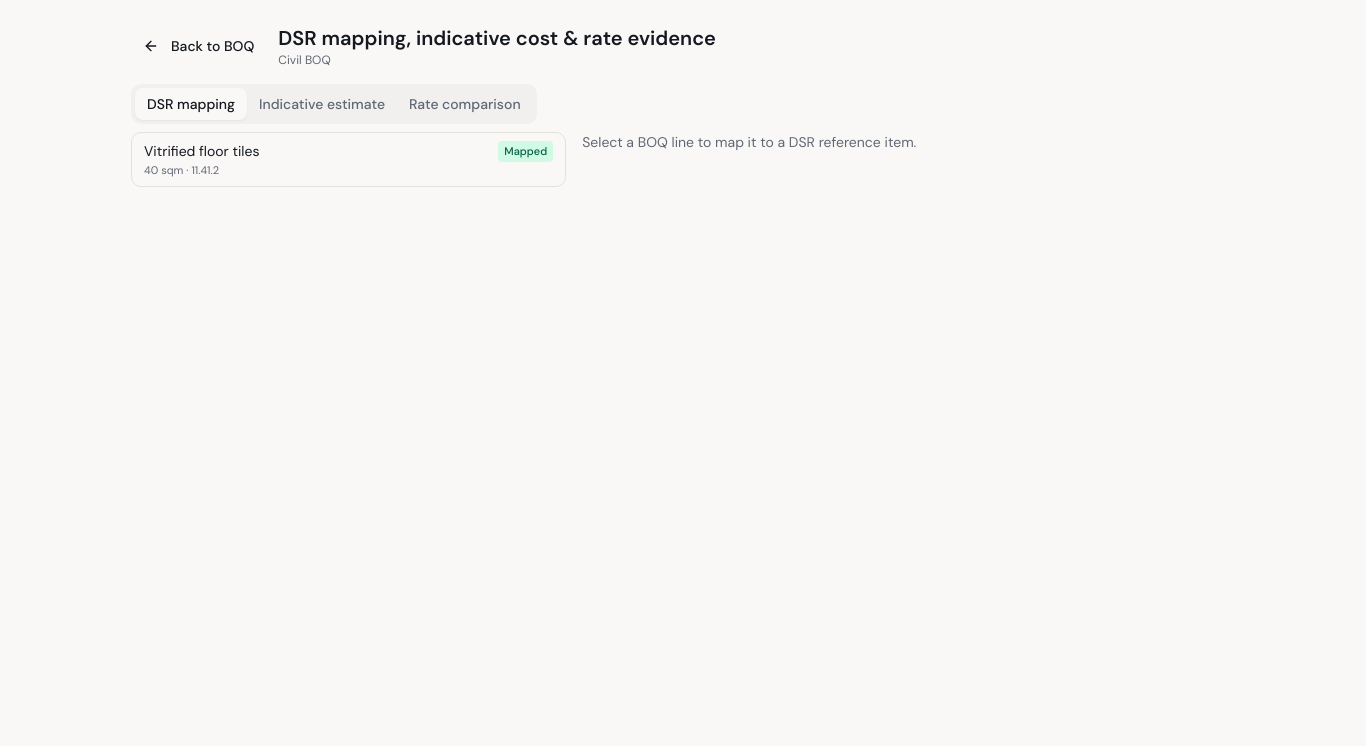
BoqDsrMapping — rate comparison › shows DSR reference, indicative amount and historical rate side by side, with nothing preferred automatically
The image size is (1366, 746).
Press the mouse on the tab "Rate comparison" at (465, 104), box [397, 88, 533, 120]
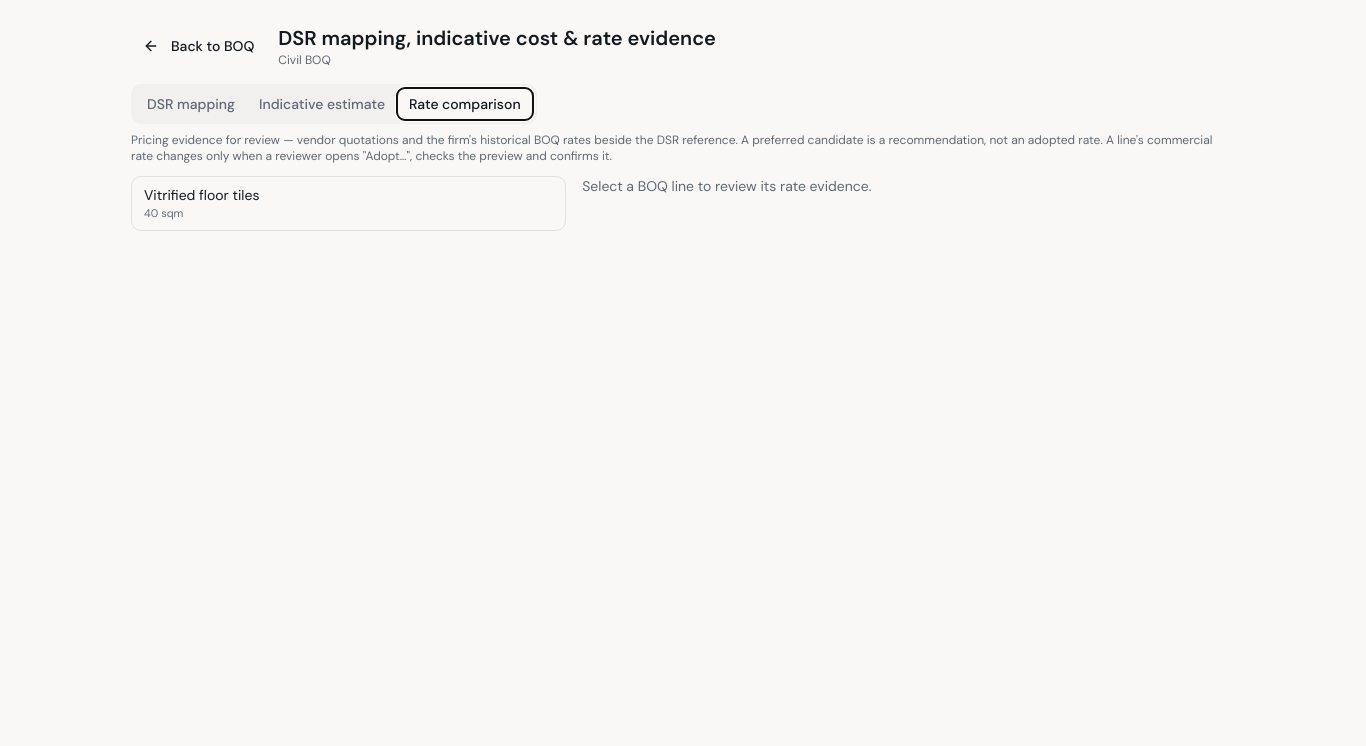
Click the button "Vitrified floor tiles 40 sqm" at (202, 195), box [131, 176, 566, 230]
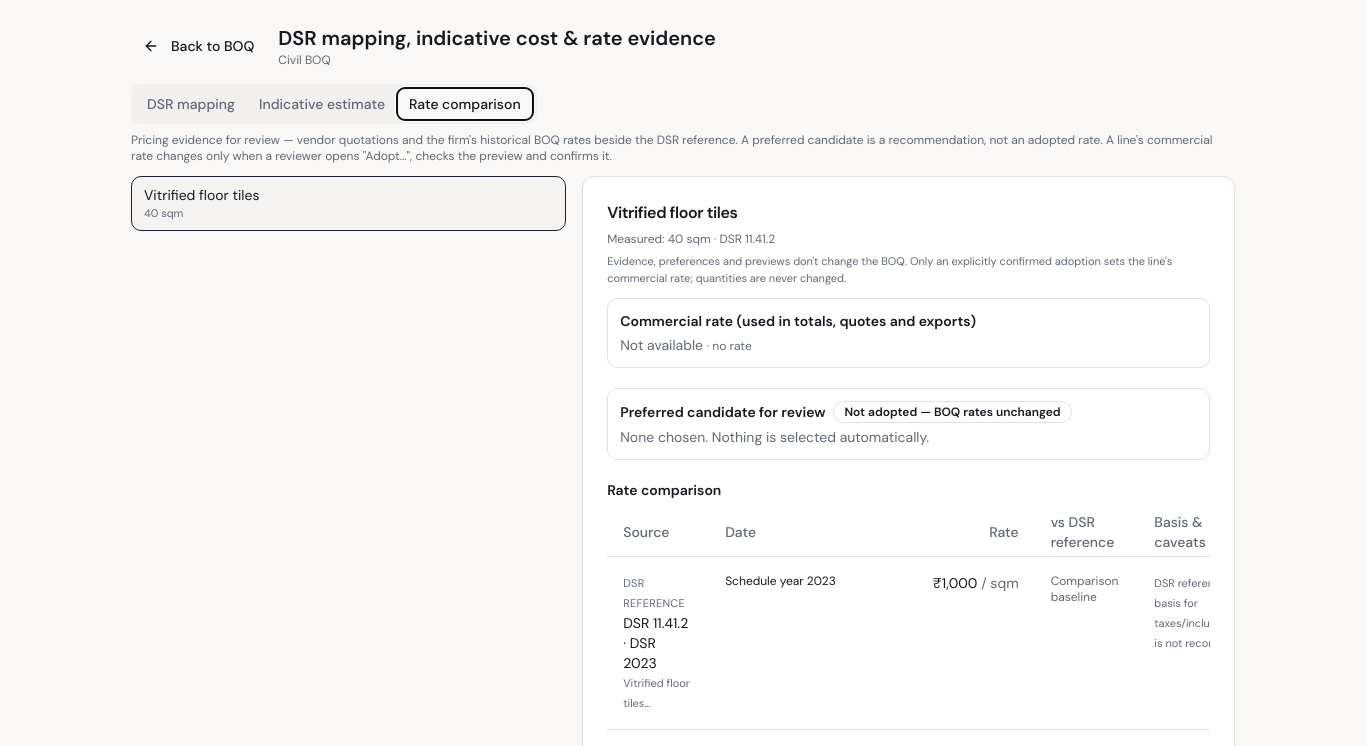
Expected: the row with test id "evidence-dsr" is shown, [607, 556, 1210, 729]
Expected: the text "Schedule year 2023" is shown, [709, 556, 917, 729]
Expected: the element with test id "preferred-candidate" shows "None chosen. Nothing is selected automatically.", [620, 428, 929, 446]
